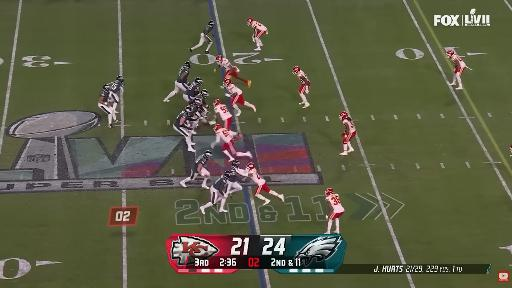Helmet: (184, 106, 194, 115), (446, 49, 455, 58), (213, 123, 222, 132), (223, 171, 233, 179), (292, 66, 300, 75), (204, 150, 212, 158), (232, 160, 240, 168), (194, 98, 202, 106), (201, 89, 208, 98), (194, 78, 203, 85), (224, 79, 231, 87), (326, 188, 334, 195), (247, 163, 255, 170), (216, 55, 222, 64), (214, 99, 221, 106), (340, 112, 347, 119), (103, 84, 110, 90), (184, 62, 191, 68), (247, 18, 253, 25), (116, 76, 123, 82), (208, 21, 215, 26)
Jersey: (326, 194, 344, 213), (216, 128, 236, 142), (248, 169, 265, 185), (174, 111, 190, 127), (214, 105, 231, 120), (194, 155, 209, 172), (212, 177, 226, 195), (230, 168, 247, 182), (176, 66, 189, 83), (185, 84, 199, 98), (297, 71, 310, 85), (451, 55, 466, 67), (111, 80, 123, 95), (343, 118, 355, 133), (227, 84, 242, 95), (219, 58, 232, 70), (252, 21, 267, 30), (199, 105, 208, 117), (203, 25, 213, 35), (101, 90, 109, 101)
Player: (211, 124, 252, 162), (247, 163, 284, 205), (200, 171, 232, 214), (180, 150, 212, 189), (224, 79, 255, 116), (216, 56, 251, 87), (164, 62, 191, 102), (174, 107, 195, 151), (98, 84, 119, 128), (189, 21, 215, 53), (326, 188, 344, 234), (446, 50, 466, 89), (227, 160, 248, 195), (293, 66, 310, 108), (340, 112, 356, 155), (247, 18, 267, 50), (189, 98, 205, 134), (214, 99, 232, 129), (110, 76, 124, 113), (183, 78, 203, 102), (510, 145, 512, 157)
